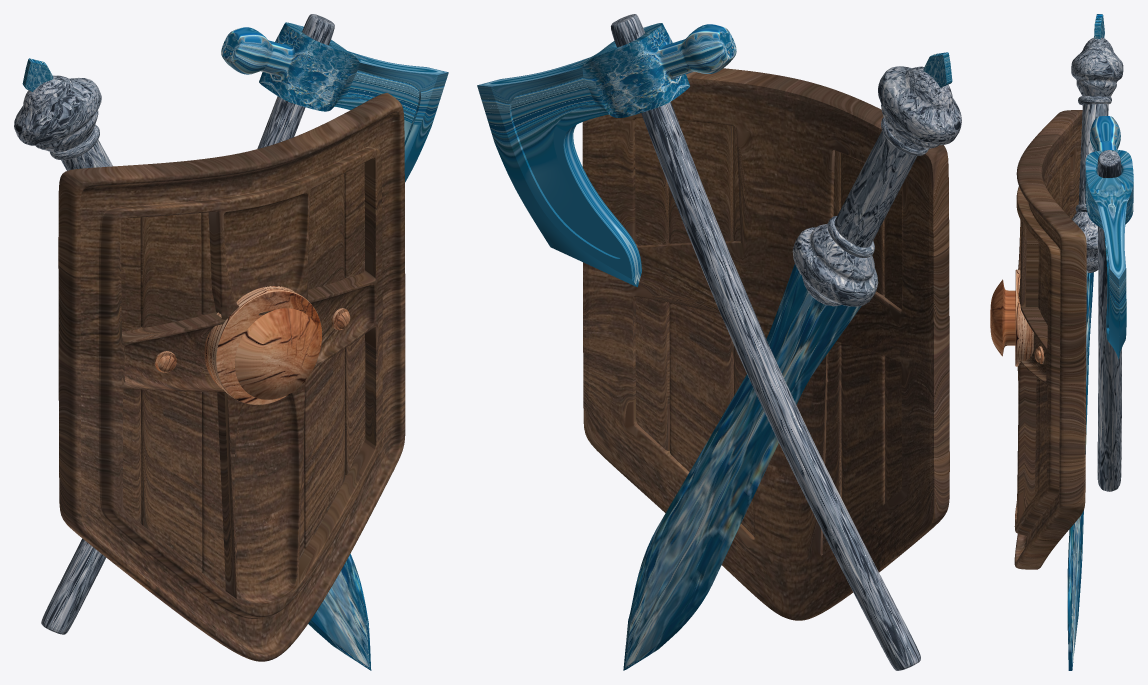
Rendered from escudo.glb.
3 renders of one model, left to right at view 1: azimuth 30°, elevation 25°; view 2: azimuth 150°, elevation 25°; view 3: azimuth 270°, elevation 25°, orthographic. The views are drawn at different scales.
Visible parts, largest first — view 1: Plane_0, Cylinder.002_4, Plane.002_3, Cylinder_1, Cylinder.001_2; view 2: Plane_0, Cylinder.002_4, Plane.002_3; view 3: Plane_0, Cylinder.002_4, Plane.002_3, Cylinder_1.
Part boxes in pixels (x1,y1,x2,y2): Plane_0: (58,93,405,661); Cylinder.002_4: (41,14,448,634); Plane.002_3: (14,58,371,670); Cylinder_1: (204,286,322,404); Cylinder.001_2: (154,308,350,372); Plane_0: (582,68,949,620); Cylinder.002_4: (477,14,920,670); Plane.002_3: (623,52,961,670); Plane_0: (1014,110,1086,569); Cylinder.002_4: (1085,116,1133,491); Plane.002_3: (1067,14,1123,670); Cylinder_1: (990,269,1033,366).
Bounding box in the file's own units: 2.65 × 3.86 × 0.9392.
Materials: 5 (5 with a texture image).
